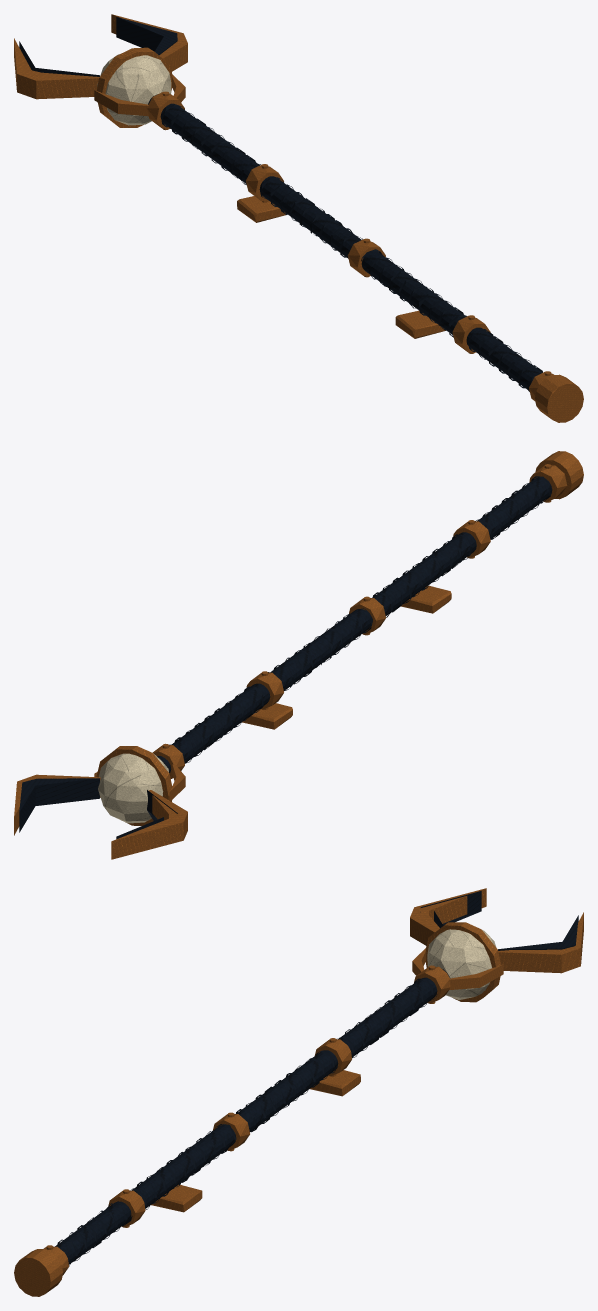
The model's file is storm-conductor-staff-stowed-lod1.glb.
The picture shows the model from 3 angles, top to bottom: view 1: azimuth 30°, elevation 25°; view 2: azimuth 150°, elevation 25°; view 3: azimuth 330°, elevation 25°; orthographic projection.
Visible parts, largest first — view 1: Dark woven shaft grip, Ivory conductor pearl, Copper fork tine shell, Staff flared pommel, Dark fork tine inset.001, Orb equatorial copper cradle, Copper fork tine shell.001, Back carry clasp, Back carry clasp.001, Conductor cradle horn, Copper staff segmented ferrule.003, Copper staff segmented ferrule.001 (+2 smaller); view 2: Dark woven shaft grip, Ivory conductor pearl, Copper fork tine shell, Dark fork tine inset.001, Orb equatorial copper cradle, Staff flared pommel, Back carry clasp, Back carry clasp.001, Copper staff segmented ferrule, Copper staff segmented ferrule.001, Copper staff segmented ferrule.003, Copper staff segmented ferrule.002 (+1 smaller); view 3: Dark woven shaft grip, Ivory conductor pearl, Copper fork tine shell.001, Staff flared pommel, Copper fork tine shell, Orb equatorial copper cradle, Back carry clasp, Back carry clasp.001, Conductor cradle horn.001, Copper staff segmented ferrule.003, Dark fork tine inset.001, Copper staff segmented ferrule.001 (+3 smaller).
Boxes of the visible parts, <box> form: Dark woven shaft grip: <box>148,94,542,390</box>; Ivory conductor pearl: <box>97,54,171,125</box>; Copper fork tine shell: <box>14,38,99,99</box>; Staff flared pommel: <box>535,374,583,422</box>; Dark fork tine inset.001: <box>116,17,177,55</box>; Orb equatorial copper cradle: <box>96,47,172,127</box>; Copper fork tine shell.001: <box>111,14,187,71</box>; Back carry clasp: <box>395,310,445,338</box>; Back carry clasp.001: <box>237,196,285,222</box>; Conductor cradle horn: <box>94,90,149,116</box>; Copper staff segmented ferrule.003: <box>246,164,283,201</box>; Copper staff segmented ferrule.001: <box>452,315,490,352</box>; Dark woven shaft grip: <box>157,477,552,773</box>; Ivory conductor pearl: <box>98,750,168,823</box>; Copper fork tine shell: <box>111,790,187,859</box>; Dark fork tine inset.001: <box>19,778,99,832</box>; Orb equatorial copper cradle: <box>96,746,172,825</box>; Staff flared pommel: <box>535,451,583,499</box>; Back carry clasp: <box>401,585,451,613</box>; Back carry clasp.001: <box>242,703,292,729</box>; Copper staff segmented ferrule: <box>529,465,567,502</box>; Copper staff segmented ferrule.001: <box>453,521,490,558</box>; Copper staff segmented ferrule.003: <box>246,672,283,709</box>; Copper staff segmented ferrule.002: <box>349,598,385,634</box>; Dark woven shaft grip: <box>55,969,449,1264</box>; Ivory conductor pearl: <box>427,929,496,1000</box>; Copper fork tine shell.001: <box>498,912,583,973</box>; Staff flared pommel: <box>14,1249,62,1296</box>; Copper fork tine shell: <box>410,888,486,945</box>; Orb equatorial copper cradle: <box>425,922,500,1002</box>; Back carry clasp: <box>151,1184,202,1212</box>; Back carry clasp.001: <box>310,1070,360,1096</box>; Conductor cradle horn.001: <box>449,964,503,990</box>; Copper staff segmented ferrule.003: <box>314,1039,351,1076</box>; Dark fork tine inset.001: <box>498,915,578,950</box>; Copper staff segmented ferrule.001: <box>108,1190,145,1227</box>.
Size of the model in its own units: 0.34 by 0.148 by 1.78.
3 materials, 3 textured.
